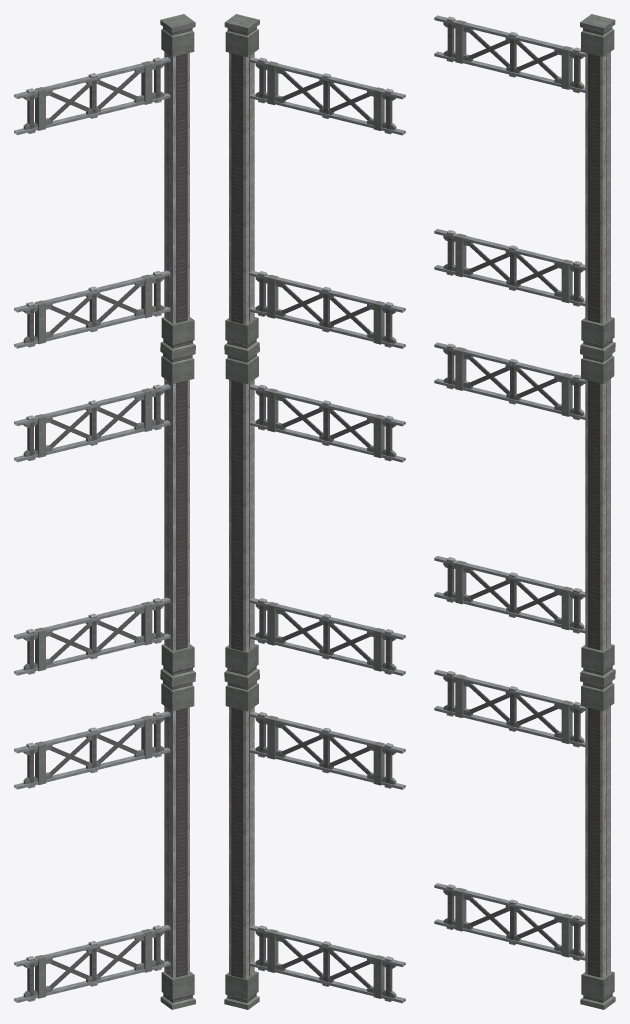
Rendered from Ob_ScafExample_RC.fbx.
3 views of the same model, side by side, from view 1: azimuth 30°, elevation 25°; view 2: azimuth 150°, elevation 25°; view 3: azimuth 330°, elevation 25° (orthographic).
Visible parts, largest first — view 1: Ob_ScafExample_RC; view 2: Ob_ScafExample_RC; view 3: Ob_ScafExample_RC.
Boxes of the visible parts, box(x1,y1,x2,y2) form: Ob_ScafExample_RC: box(14, 14, 195, 1009); Ob_ScafExample_RC: box(224, 14, 405, 1009); Ob_ScafExample_RC: box(434, 14, 615, 1009).
Size of the model in its own units: 5328 by 28693 by 610.
